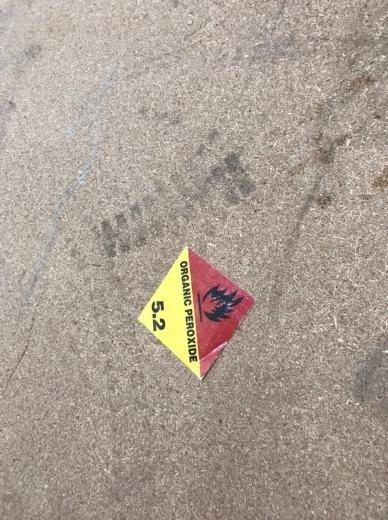organic-peroxide: (136, 245, 256, 380)
